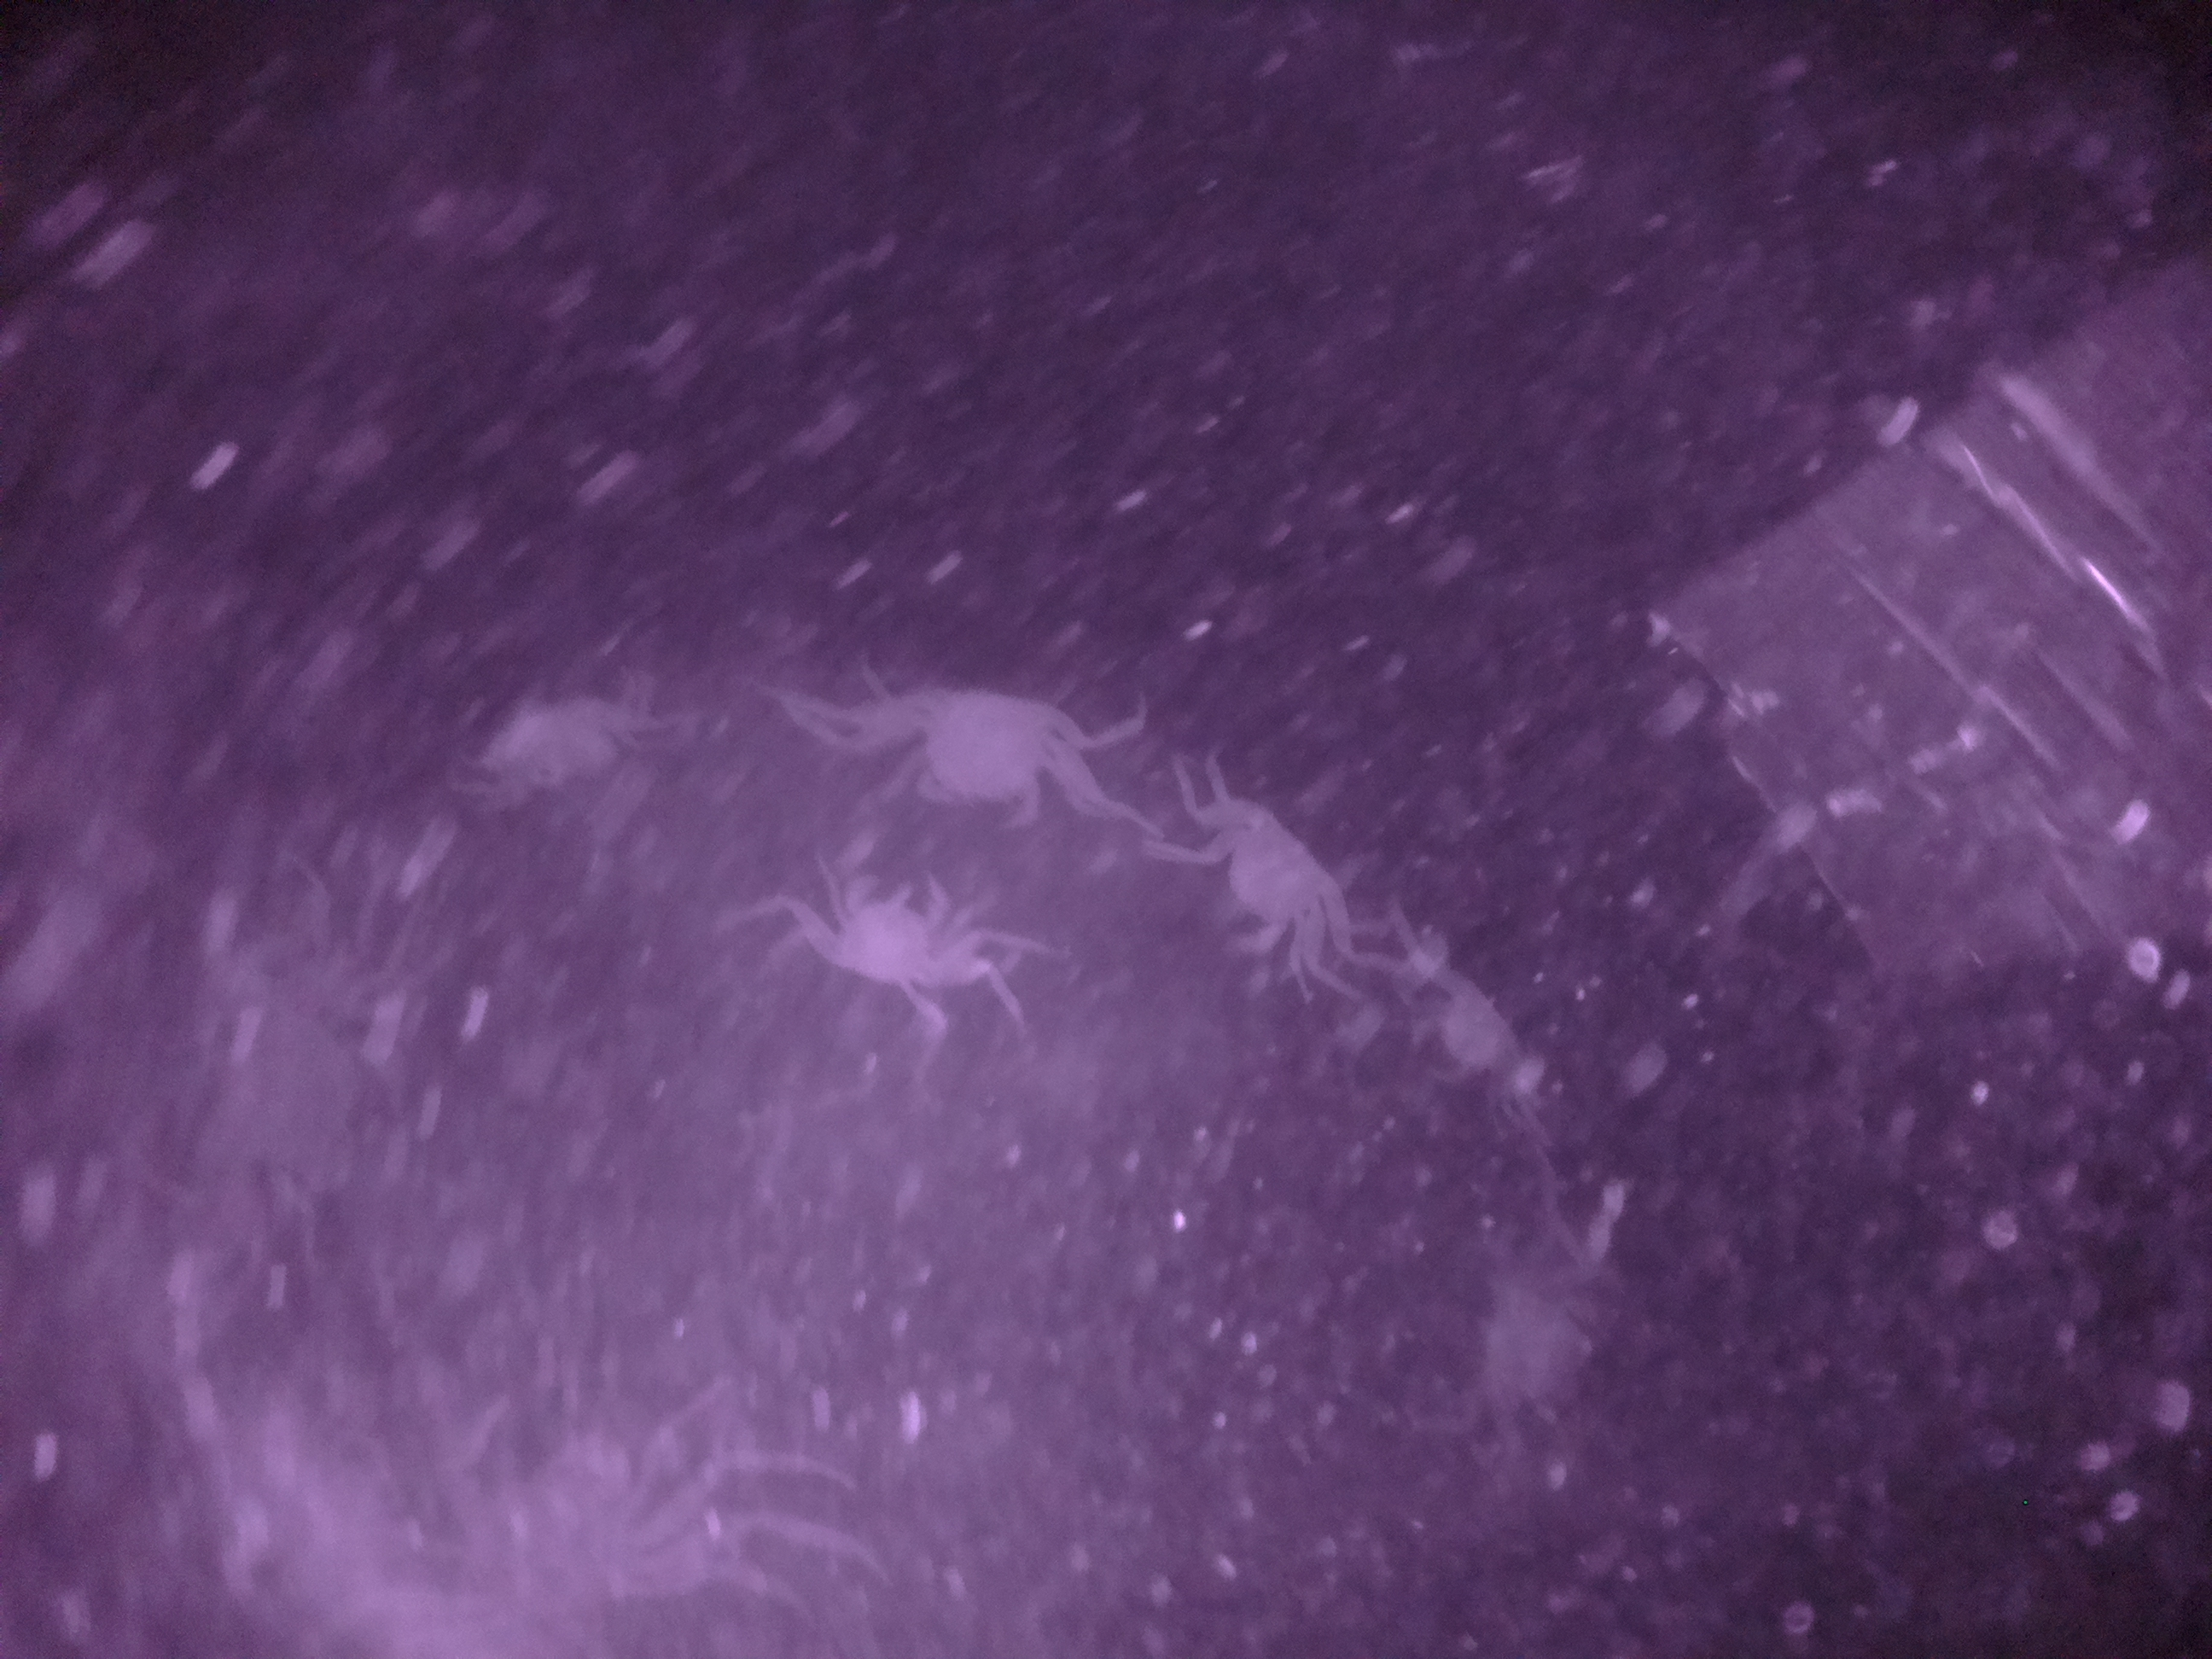Crab: (869, 683, 1101, 828), (1177, 782, 1352, 974), (784, 864, 974, 1006)
